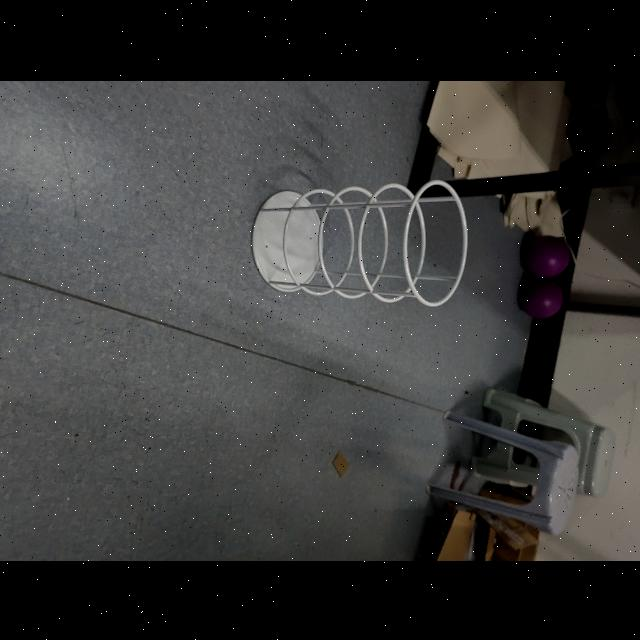S: (250, 176, 470, 312)
